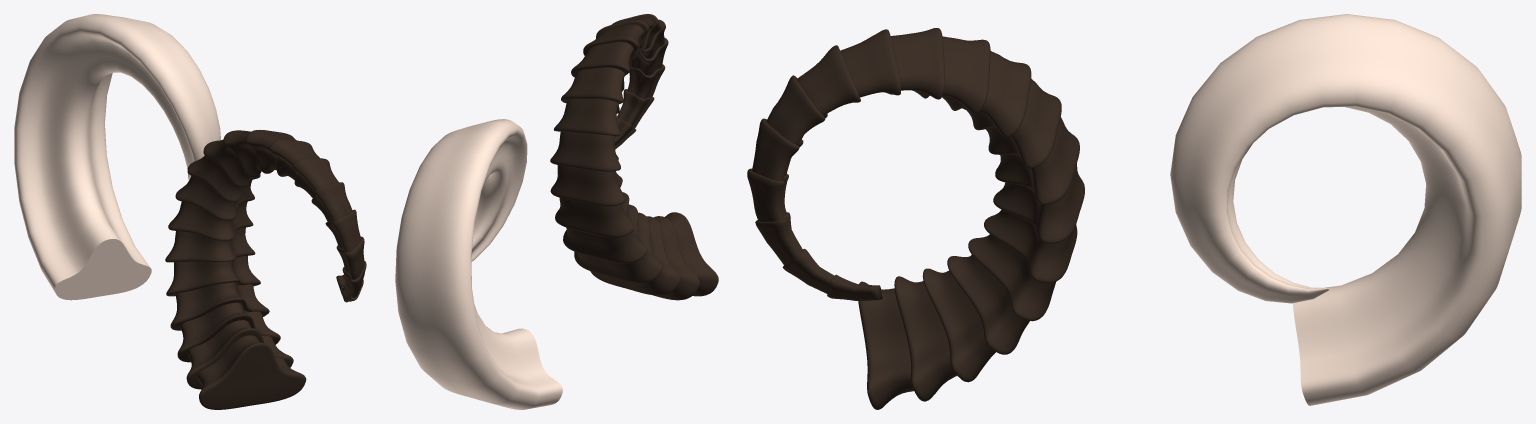
The model's file is horns.glb.
The picture shows the model from 3 angles, left to right: view 1: azimuth 30°, elevation 25°; view 2: azimuth 150°, elevation 25°; view 3: azimuth 270°, elevation 25°; orthographic projection. The views are drawn at different scales.
Parts seen in each view (by area): view 1: Spiral, BézierCircle.001; view 2: Spiral, BézierCircle.001; view 3: Spiral, BézierCircle.001.
Boxes of the visible parts, x1=… form: Spiral: x1=14, y1=14, x2=220, y2=300; BézierCircle.001: x1=165, y1=130, x2=366, y2=409; Spiral: x1=395, y1=119, x2=562, y2=409; BézierCircle.001: x1=550, y1=14, x2=718, y2=300; Spiral: x1=1170, y1=14, x2=1521, y2=405; BézierCircle.001: x1=747, y1=28, x2=1084, y2=409.
Size of the model in its own units: 1.11 by 1.95 by 3.57.
